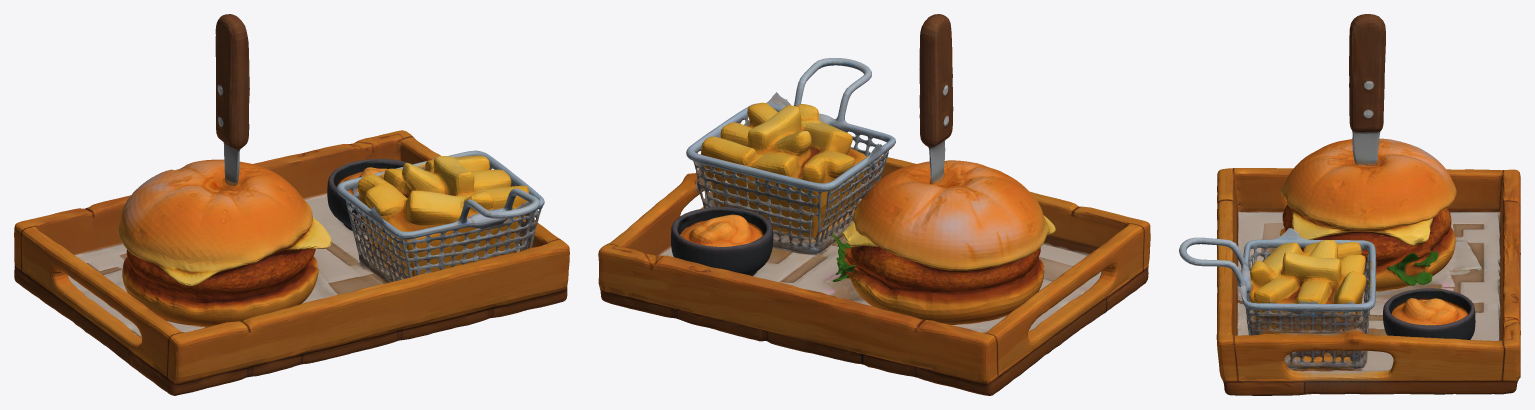
Rendered from dish.glb.
The picture shows the model from 3 angles, left to right: view 1: azimuth 30°, elevation 25°; view 2: azimuth 150°, elevation 25°; view 3: azimuth 270°, elevation 25°; orthographic projection. The views are drawn at different scales.
Visible parts, largest first — view 1: tripo_node_d66e9480-6e64-499c-8da4-48503ccbe451; view 2: tripo_node_d66e9480-6e64-499c-8da4-48503ccbe451; view 3: tripo_node_d66e9480-6e64-499c-8da4-48503ccbe451.
Boxes of the visible parts, left/top/right/bottom form: tripo_node_d66e9480-6e64-499c-8da4-48503ccbe451: left=14, top=14, right=569, bottom=395; tripo_node_d66e9480-6e64-499c-8da4-48503ccbe451: left=598, top=14, right=1150, bottom=395; tripo_node_d66e9480-6e64-499c-8da4-48503ccbe451: left=1179, top=14, right=1520, bottom=395.
Size of the model in its own units: 0.9913 by 0.6955 by 0.8079.
Materials: 1 (1 with a texture image).
